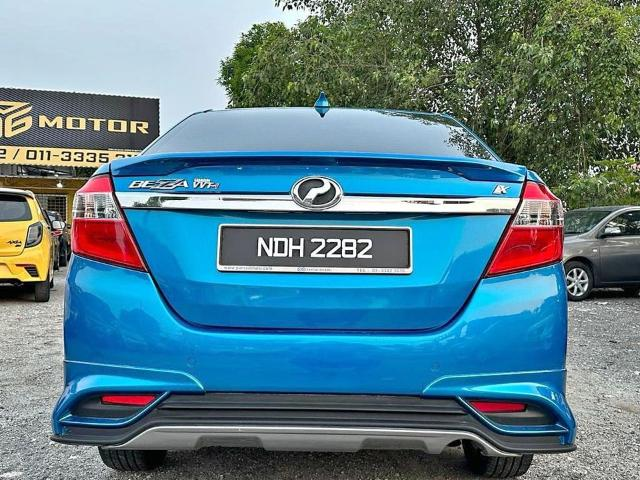License_Plate: (231, 225, 402, 270)
car: (53, 92, 579, 460)
